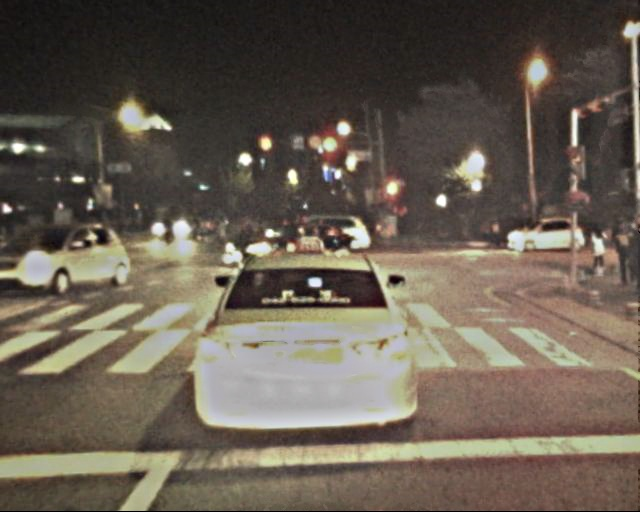person: (608, 214, 638, 287), (207, 210, 264, 242), (587, 226, 608, 278), (480, 217, 508, 251)
